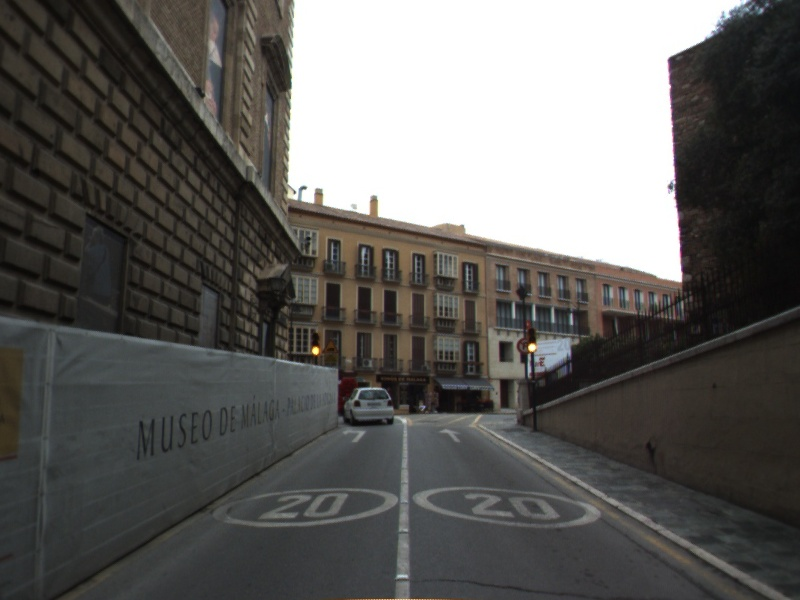LEFT: (341, 426, 369, 444)
STRAIGHT: (436, 426, 465, 444)
